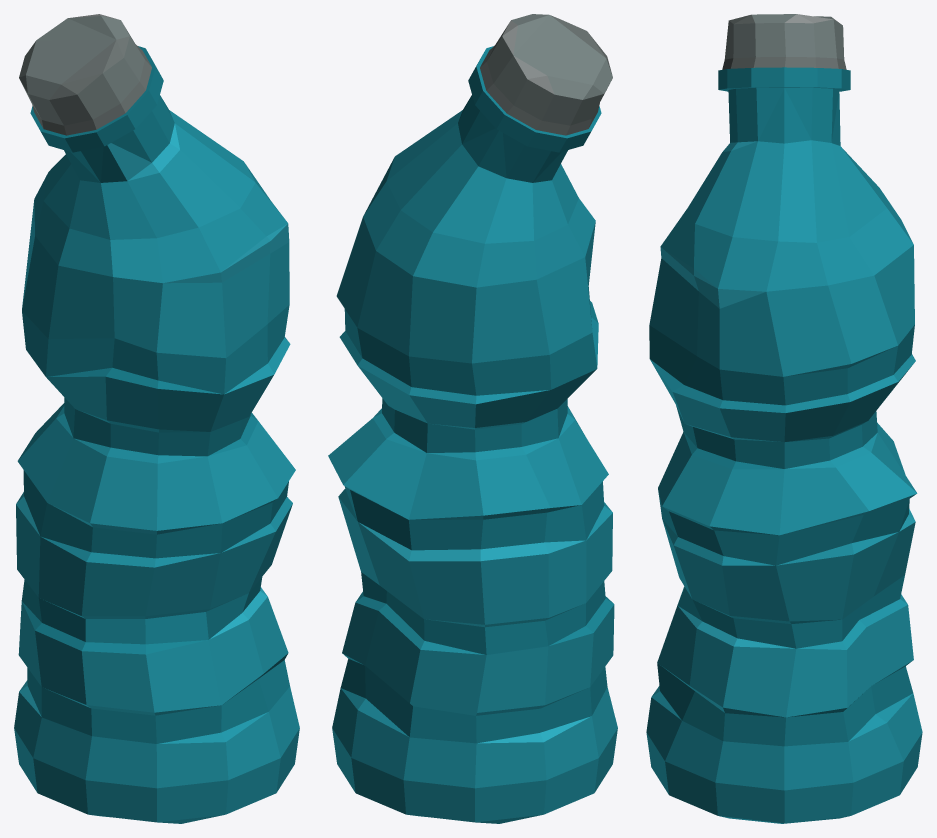
File: mesh_bottle_01_empty.fbx
3 views of the same model, side by side, from view 1: azimuth 30°, elevation 25°; view 2: azimuth 150°, elevation 25°; view 3: azimuth 270°, elevation 25° (orthographic). The views are drawn at different scales.
Parts seen in each view (by area): view 1: mesh_bottle_01_empty; view 2: mesh_bottle_01_empty; view 3: mesh_bottle_01_empty.
Part boxes in pixels (bbox=[...]): mesh_bottle_01_empty: bbox=[14, 14, 299, 823]; mesh_bottle_01_empty: bbox=[328, 14, 617, 823]; mesh_bottle_01_empty: bbox=[646, 14, 922, 823].
Bounding box in the file's own units: 0.1905 × 0.5533 × 0.1865.
